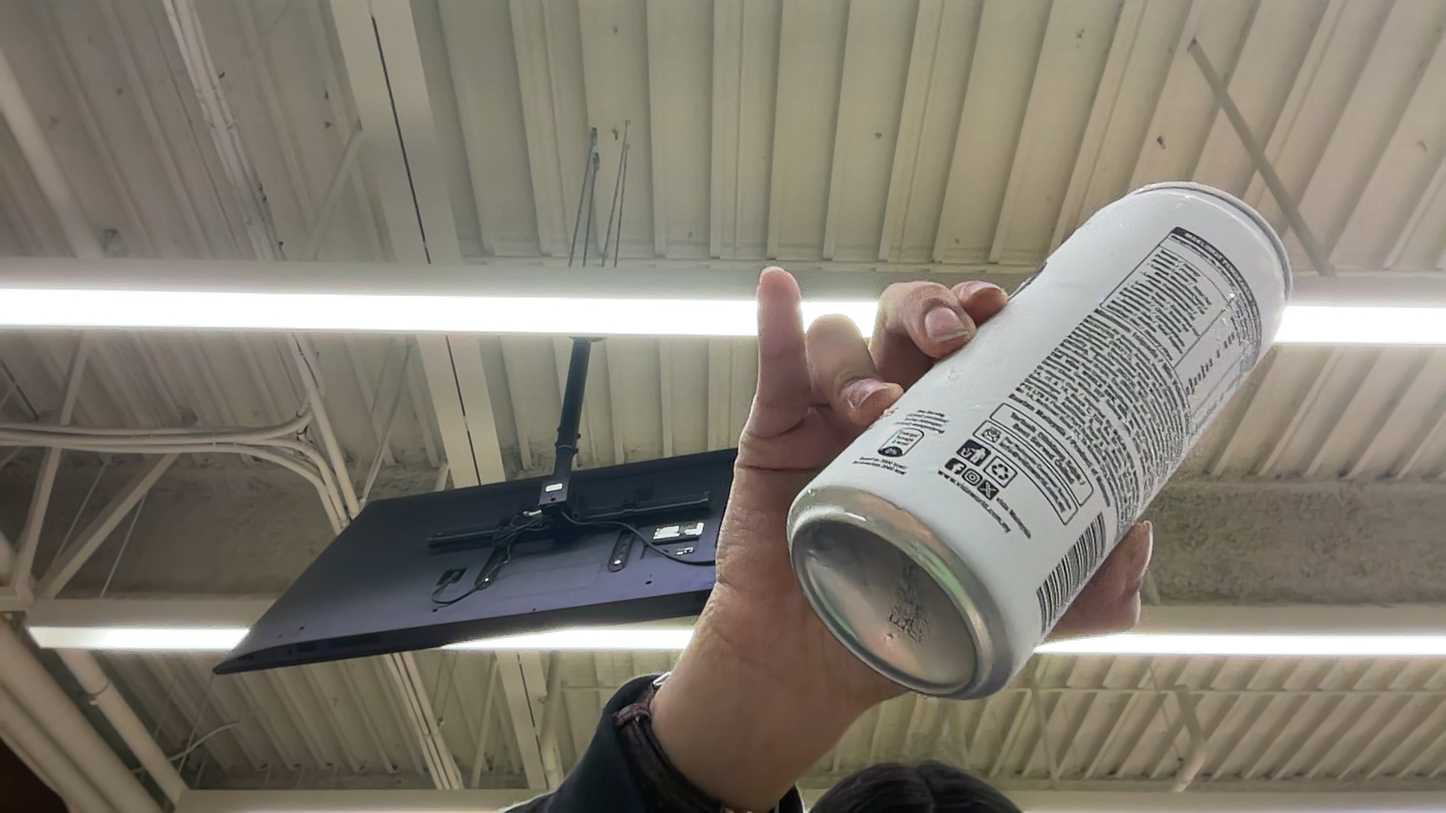Metal: (741, 175, 1366, 703)
